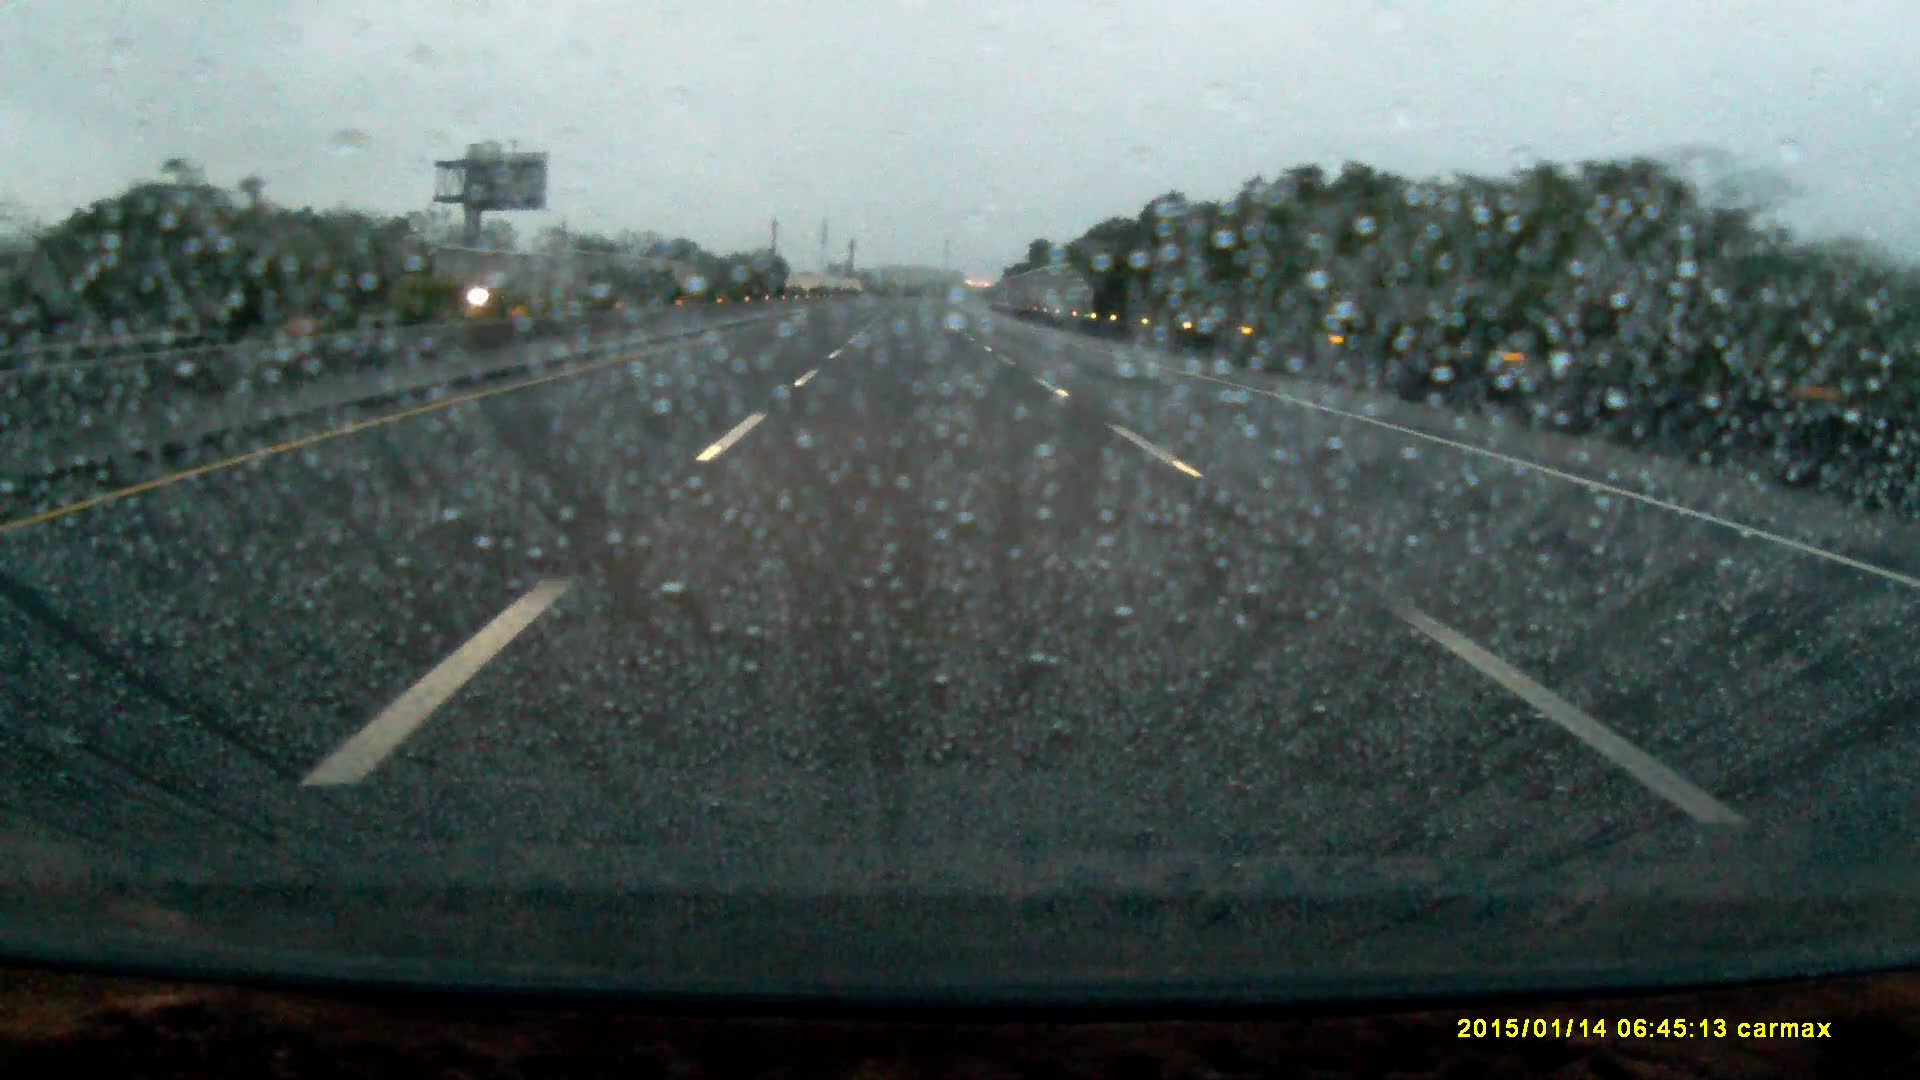vehicle: (480, 266, 576, 311)
